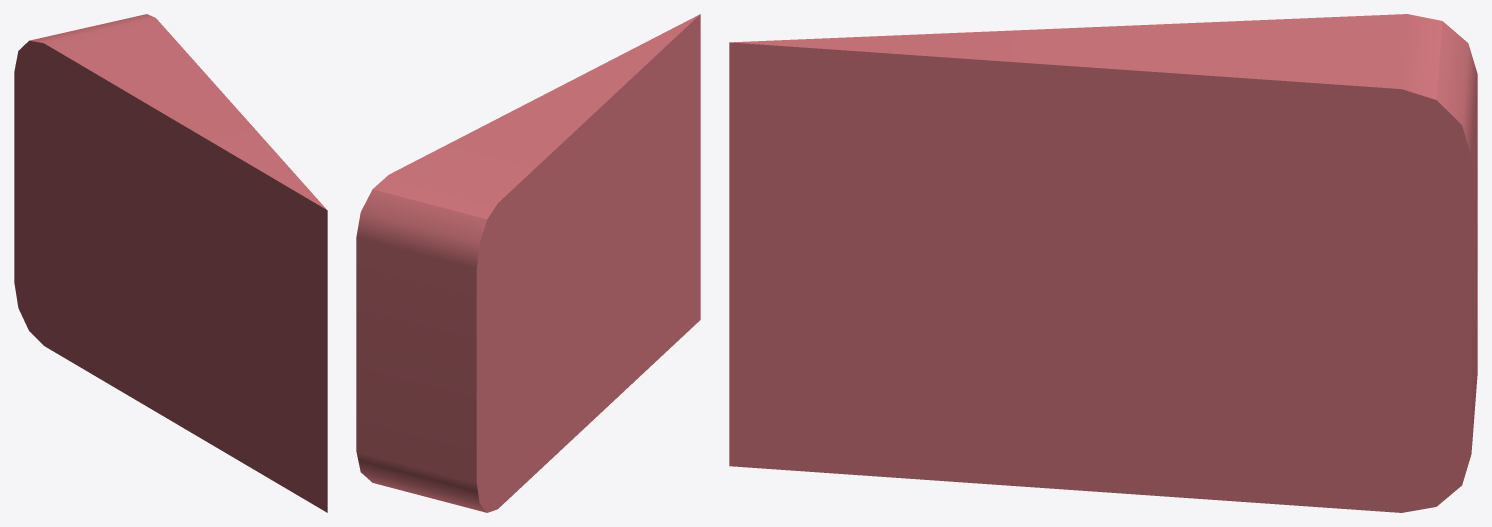
File: Pandispanya_24P.fbx
3 renders of one model, left to right at view 1: azimuth 30°, elevation 25°; view 2: azimuth 150°, elevation 25°; view 3: azimuth 270°, elevation 25°, orthographic. The views are drawn at different scales.
Parts seen in each view (by area): view 1: pCylinder127; view 2: pCylinder127; view 3: pCylinder127.
Boxes of the visible parts, x1,y1,x2,y2 form: pCylinder127: (14, 14, 327, 512); pCylinder127: (356, 14, 700, 512); pCylinder127: (729, 14, 1477, 512).
Size of the model in its own units: 0.2609 by 0.6216 by 0.9951.
